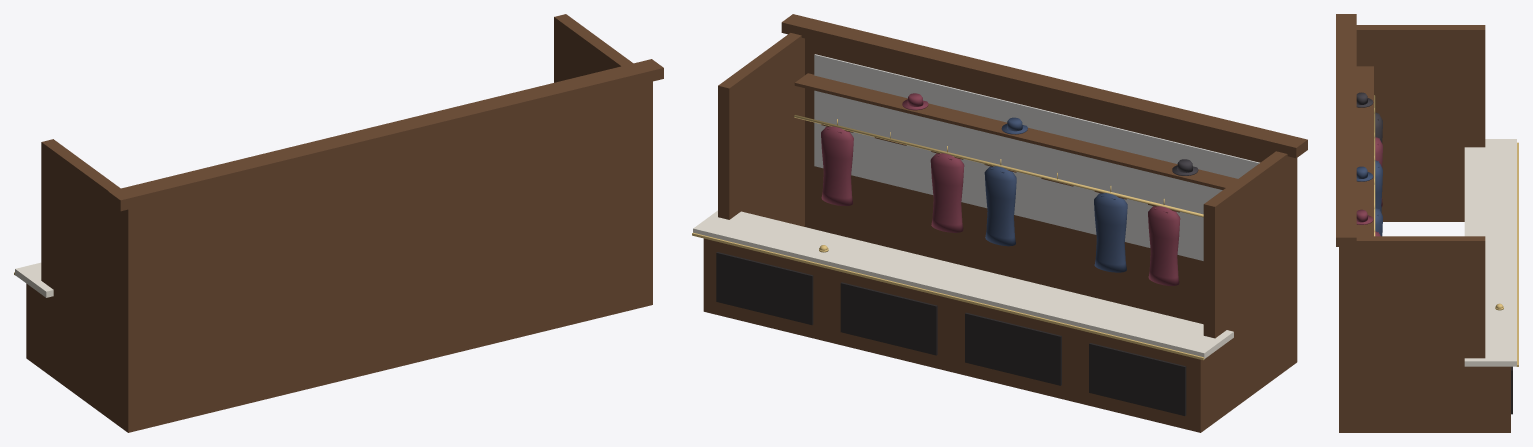
File: cloakroom.glb
3 views of the same model, side by side, from view 1: azimuth 30°, elevation 25°; view 2: azimuth 150°, elevation 25°; view 3: azimuth 270°, elevation 25° (orthographic). The views are drawn at different scales.
Visible parts, largest first — view 1: clkBack_wood, clkSide_wood, clkCornice_wood, clkSide_wood.001, clkBase_wood, clkTop_marbleL; view 2: clkBackMirror_mirror, clkBack_wood, clkBase_wood, clkSide_wood, clkTop_marbleL, clkSide_wood.001, clkCornice_wood, clkHatShelf_wood, clkPanel_dark.002, clkPanel_dark, clkPanel_dark.003, clkPanel_dark.001 (+7 smaller); view 3: clkSide_wood.001, clkSide_wood, clkTop_marbleL, clkCornice_wood, clkBase_wood, clkHatShelf_wood, clkBack_wood, clkTopEdge_brass, clkCoat_coatC, clkRod_brass, clkCoat_coatB, clkCoat_coatA (+1 smaller).
Boxes of the visible parts, x1=… form: clkBack_wood: x1=121, y1=83, x2=652, y2=432; clkSide_wood: x1=41, y1=139, x2=140, y2=432; clkCornice_wood: x1=108, y1=59, x2=663, y2=211; clkSide_wood.001: x1=554, y1=14, x2=652, y2=305; clkBase_wood: x1=26, y1=283, x2=41, y2=368; clkTop_marbleL: x1=15, y1=262, x2=53, y2=297; clkBackMirror_mirror: x1=814, y1=54, x2=1259, y2=260; clkBack_wood: x1=805, y1=38, x2=1297, y2=366; clkBase_wood: x1=703, y1=238, x2=1223, y2=432; clkSide_wood: x1=1203, y1=151, x2=1296, y2=419; clkTop_marbleL: x1=693, y1=210, x2=1233, y2=358; clkSide_wood.001: x1=718, y1=33, x2=804, y2=226; clkCornice_wood: x1=781, y1=14, x2=1307, y2=158; clkHatShelf_wood: x1=794, y1=73, x2=1237, y2=189; clkPanel_dark.002: x1=840, y1=282, x2=937, y2=355; clkPanel_dark: x1=1089, y1=343, x2=1186, y2=415; clkPanel_dark.003: x1=716, y1=252, x2=813, y2=324; clkPanel_dark.001: x1=965, y1=312, x2=1061, y2=385; clkSide_wood.001: x1=1339, y1=236, x2=1485, y2=432; clkSide_wood: x1=1356, y1=25, x2=1485, y2=221; clkTop_marbleL: x1=1464, y1=139, x2=1516, y2=366; clkCornice_wood: x1=1336, y1=14, x2=1356, y2=246; clkBase_wood: x1=1470, y1=366, x2=1510, y2=432; clkHatShelf_wood: x1=1356, y1=66, x2=1373, y2=236; clkBack_wood: x1=1339, y1=247, x2=1350, y2=432; clkTopEdge_brass: x1=1516, y1=142, x2=1518, y2=366; clkCoat_coatC: x1=1375, y1=160, x2=1382, y2=212; clkRod_brass: x1=1374, y1=95, x2=1375, y2=236; clkCoat_coatB: x1=1375, y1=137, x2=1382, y2=207; clkCoat_coatA: x1=1375, y1=112, x2=1382, y2=143.
Bounding box in the file's own units: 7.25 × 3.01 × 2.5.
